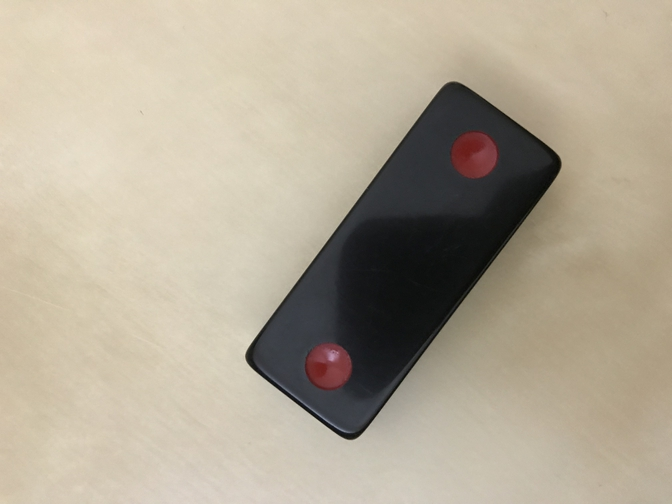earth: (245, 80, 562, 441)
